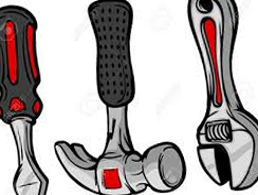Wrench: (177, 1, 258, 195)
